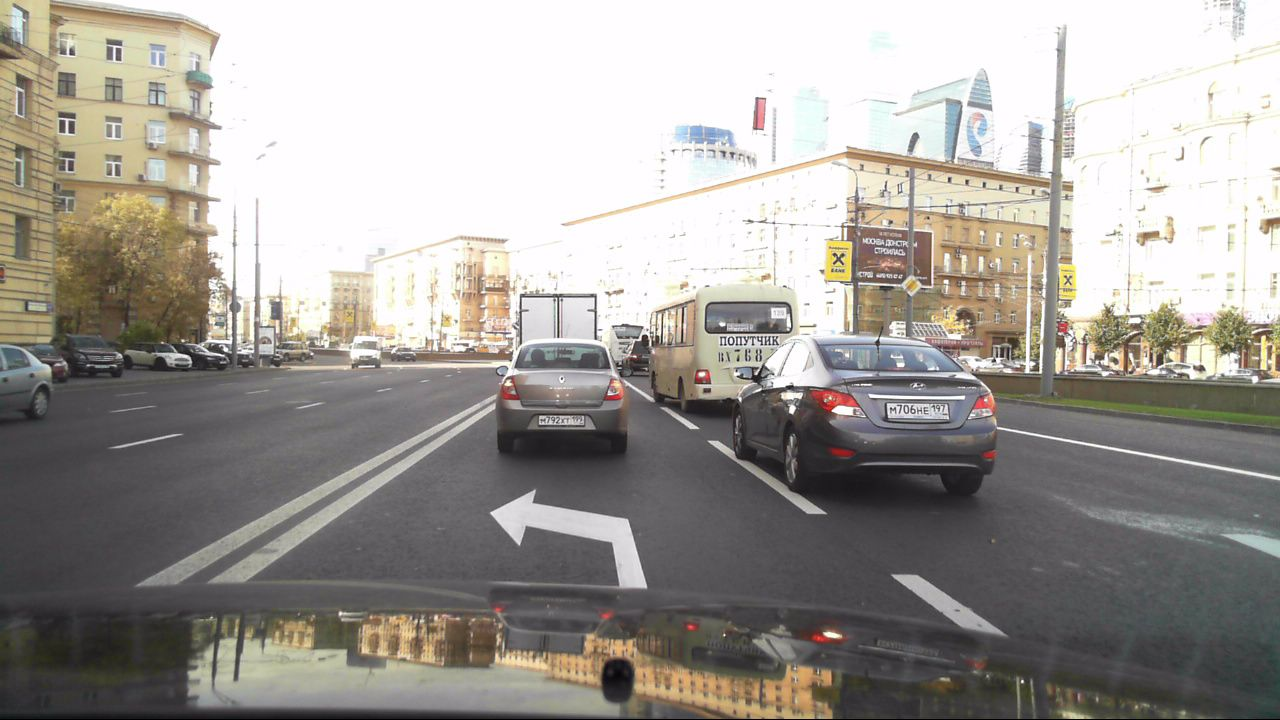main road: (900, 272, 923, 297)
